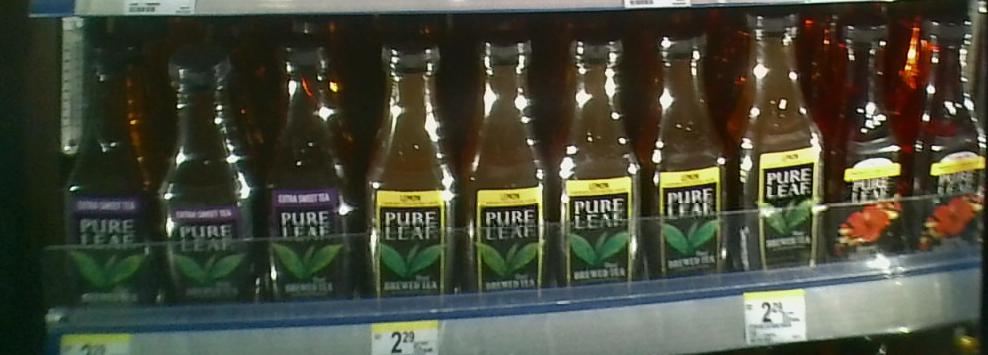bottle: (156, 43, 262, 312), (363, 32, 467, 301), (262, 33, 361, 305), (60, 39, 155, 320), (469, 27, 558, 314), (646, 27, 742, 289), (559, 27, 646, 306), (903, 12, 987, 272), (742, 10, 825, 273), (827, 14, 907, 260)
